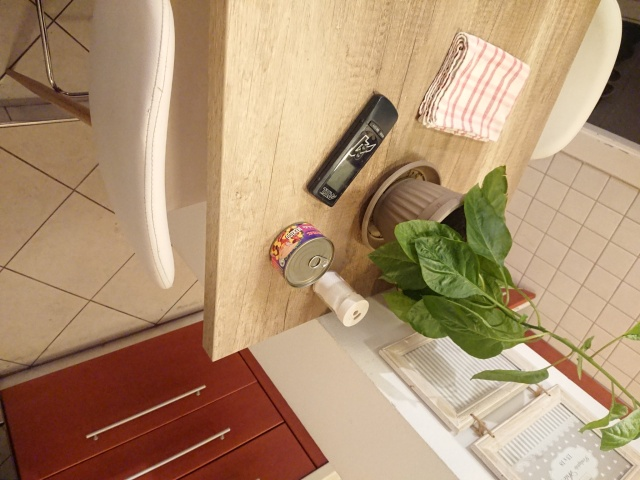Giana Tuna Salad Mexico 185g: (266, 217, 338, 290)
